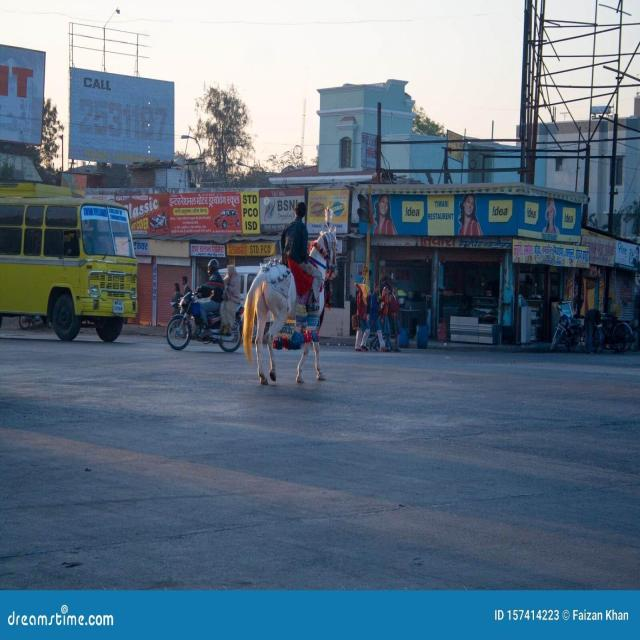bus: (0, 185, 138, 341)
motorcycle: (166, 259, 241, 351)
